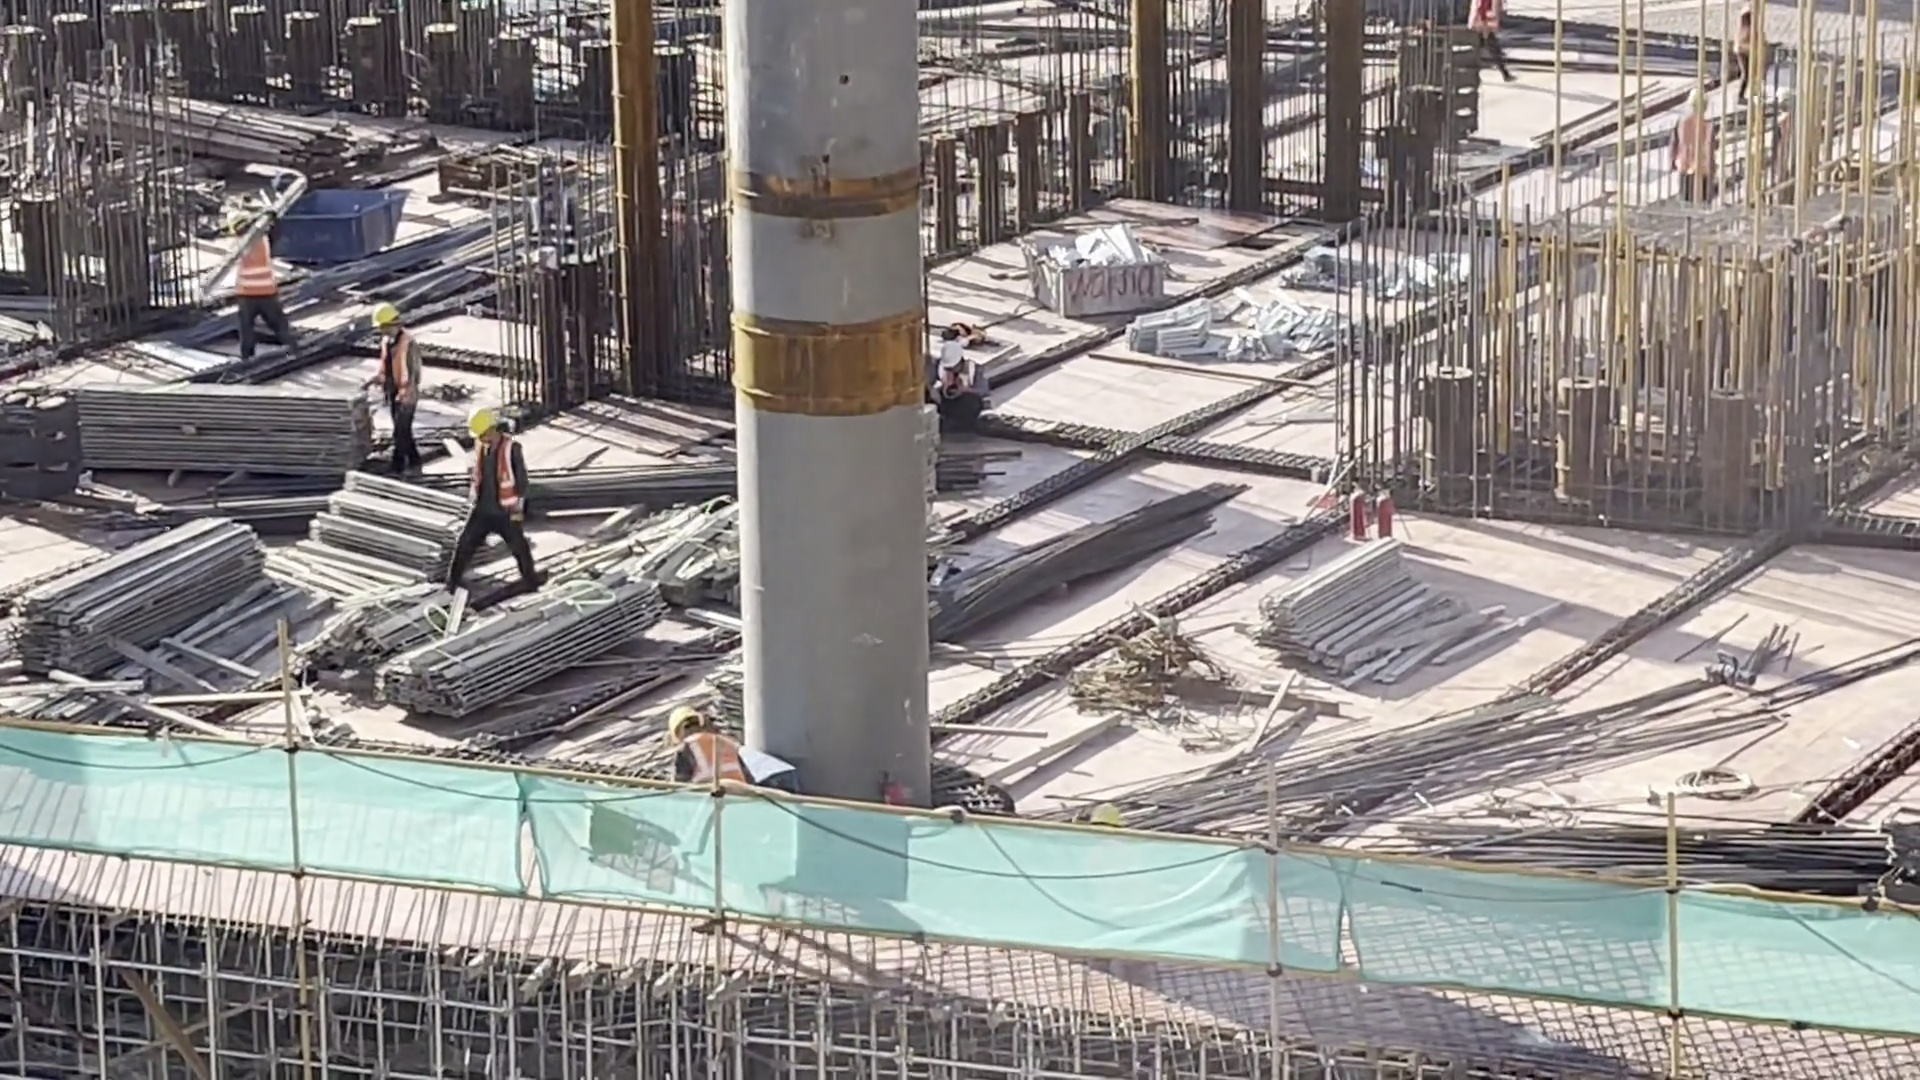helmet: (663, 706, 708, 738), (359, 293, 399, 324), (938, 342, 970, 372), (470, 413, 501, 435), (225, 212, 255, 234)
person: (448, 397, 537, 601), (341, 295, 436, 476), (197, 198, 295, 364), (647, 689, 748, 830), (1666, 82, 1743, 212), (914, 327, 1004, 422)
vest: (670, 717, 741, 804), (462, 437, 515, 522), (366, 327, 411, 395), (234, 231, 277, 300)
